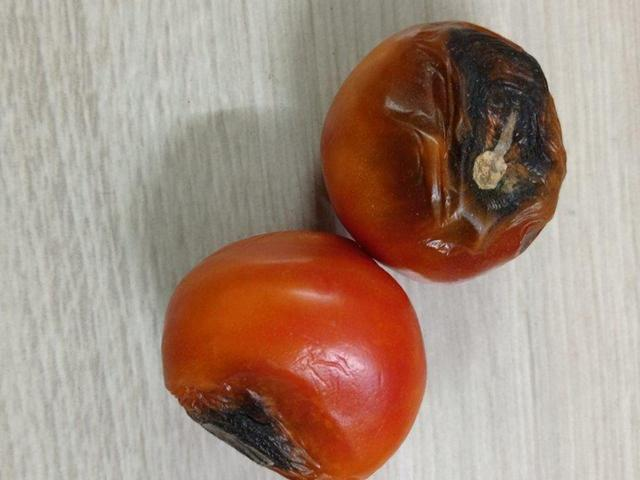defect: (154, 227, 436, 480), (314, 14, 569, 287)
